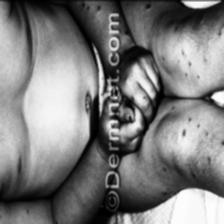Non-Cancerous Skin Condition: (96, 2, 104, 12), (145, 3, 153, 9), (182, 49, 186, 54), (196, 74, 200, 78), (188, 61, 192, 65), (203, 56, 207, 60), (182, 131, 186, 135), (162, 54, 164, 61), (174, 136, 176, 140)
